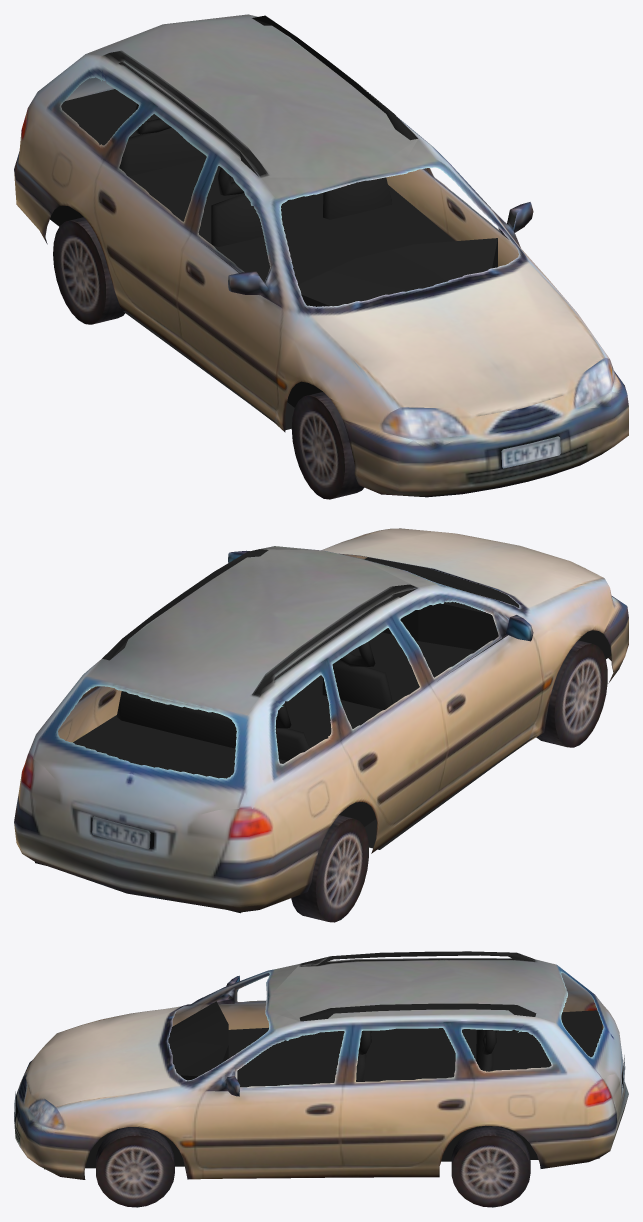
Rendered from lwpg013.obj.
3 views of the same model, one above another, from view 1: azimuth 30°, elevation 25°; view 2: azimuth 150°, elevation 25°; view 3: azimuth 270°, elevation 25° (orthographic). The views are drawn at different scales.
Parts seen in each view (by area): view 1: lwpg013; view 2: lwpg013; view 3: lwpg013.
Boxes of the visible parts, <box> form: lwpg013: <box>14,14,628,499</box>; lwpg013: <box>14,528,628,922</box>; lwpg013: <box>14,951,628,1207</box>.
Size of the model in its own units: 2.07 by 1.6 by 4.88.
Materials: 2 (1 with a texture image).
